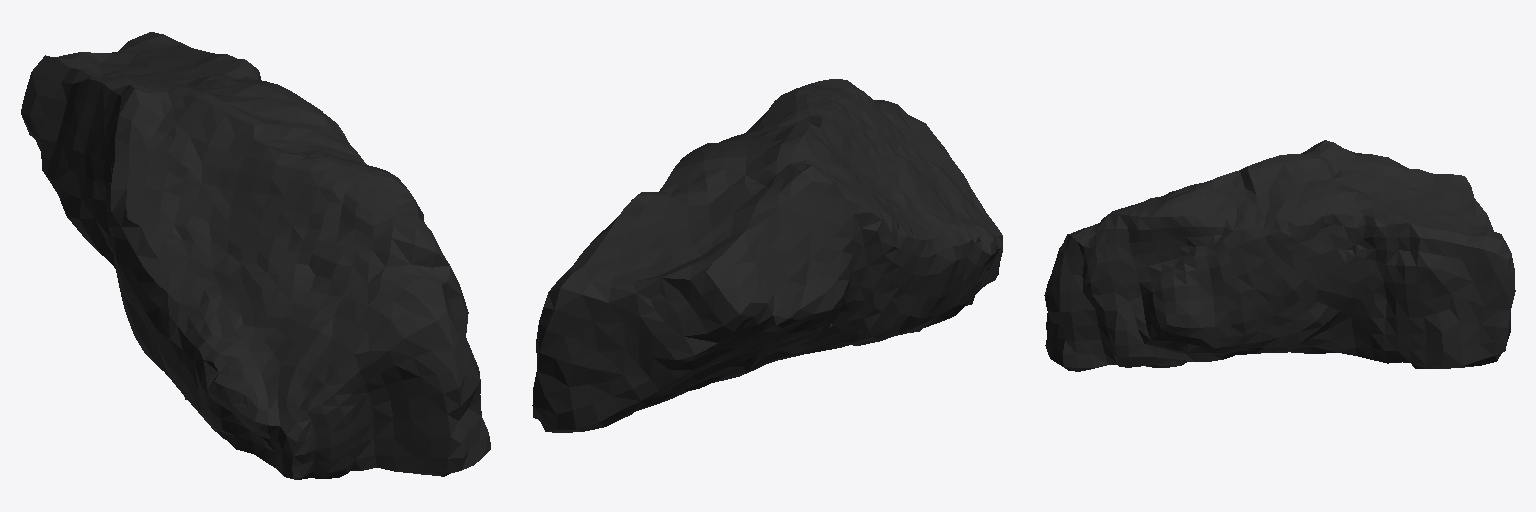
robot.urdf — ball:
<?xml version="1.0" encoding="utf-8"?>
<robot name="ball">
  <link name="base_link">
    <contact>
      <lateral_friction value="0.5"/>
      <rolling_friction value="0.0"/>
      <contact_cfm value="0.0"/>
      <contact_erp value="1.0"/>
    </contact>
    <inertial>
      <origin rpy="0 0 0" xyz="0 0 0"/>
      <mass value="5"/>
      <inertia ixx="0" ixy="0" ixz="0" iyy="0" iyz="0" izz="0"/>
    </inertial>
    <visual>
      <origin rpy="1.57 0 0" xyz="0 0 0"/>
      <geometry>
        <mesh filename="models/meshes/coal/Rock1.obj" scale="0.012 0.012 0.012"/>
      </geometry>
      <material name="tray_material">
        <color rgba="0.2 0.2 0.2 1"/>
      </material>
    </visual>
    <collision>
      <origin rpy="1.57 0 0" xyz="0 0 0"/>
      <geometry>
        <mesh filename="models/meshes/coal/Rock1.obj" scale="0.012 0.012 0.012"/>
      </geometry>
    </collision>
  </link>
</robot>

--- Facts derived from the render (not from the file) ---
The picture shows the robot from 3 angles, left to right: view 1: azimuth 30°, elevation 25°; view 2: azimuth 150°, elevation 25°; view 3: azimuth 270°, elevation 25°; orthographic projection.
Robot: ball — 1 links, 0 joints (none); root link base_link; default pose: all joints at 0.
Links seen in each view (by area): view 1: base_link; view 2: base_link; view 3: base_link.
Link boxes in pixels (bbox=[...]): base_link: bbox=[21, 32, 490, 479]; base_link: bbox=[532, 79, 1002, 432]; base_link: bbox=[1044, 140, 1515, 371].
Bounding box of the posed robot: 0.2035 × 0.4558 × 0.1934 m (x, y, z).
1 mesh visuals loaded from 1 distinct referenced files (1 OBJ).